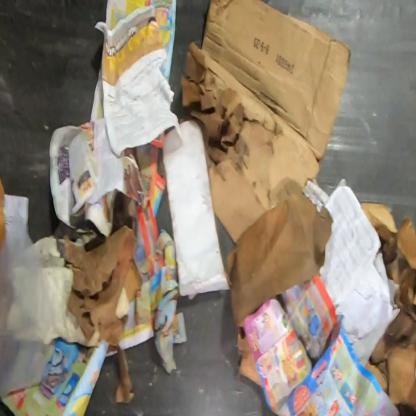cardboard: (179, 0, 351, 244), (162, 120, 231, 297), (360, 202, 415, 413), (1, 337, 110, 415), (236, 332, 262, 388)
soft_plastic: (0, 215, 57, 408)
